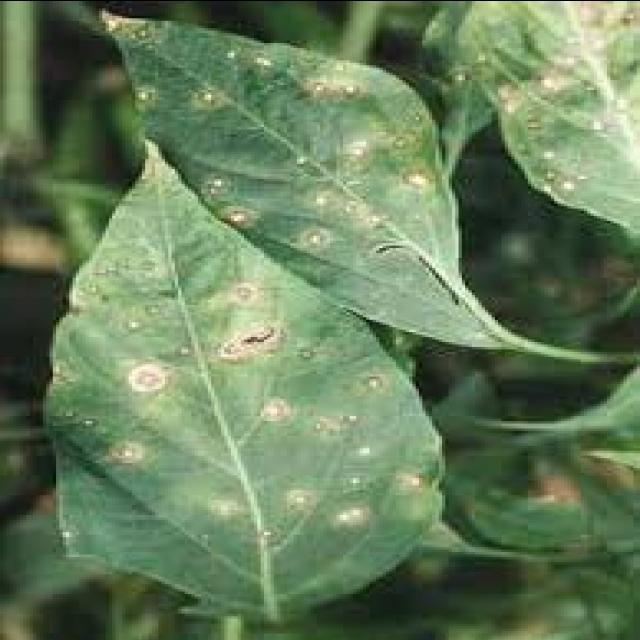bercak_daun: (12, 152, 438, 628), (102, 12, 470, 352)
